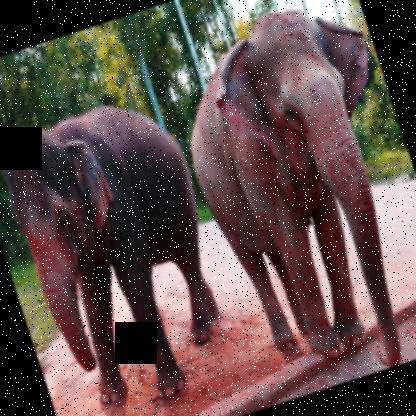Elephas-maximus: (154, 0, 415, 407), (0, 85, 256, 415)
